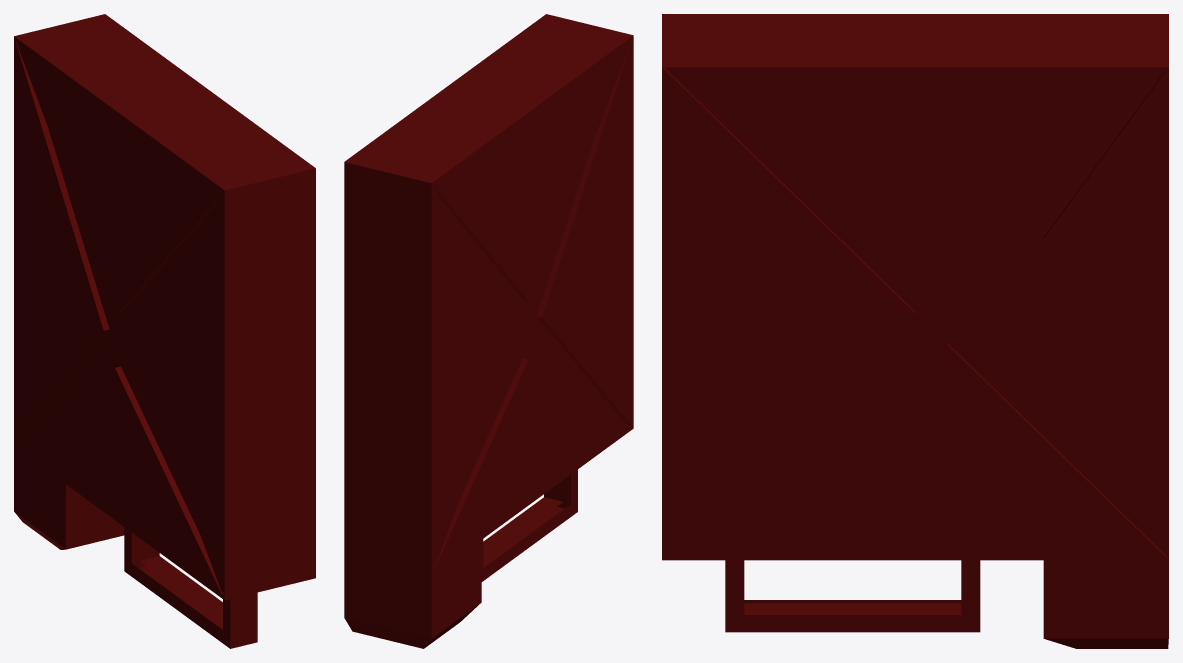
The model's file is canister.glb.
The picture shows the model from 3 angles, left to right: view 1: azimuth 30°, elevation 25°; view 2: azimuth 150°, elevation 25°; view 3: azimuth 270°, elevation 25°; orthographic projection. The views are drawn at different scales.
Parts seen in each view (by area): view 1: Cube; view 2: Cube; view 3: Cube.
Part boxes in pixels (x1,y1,x2,y2): Cube: (14,14,315,648); Cube: (344,14,633,648); Cube: (662,14,1168,648).
Bounding box in the file's own units: 0.3911 × 2 × 1.57.
